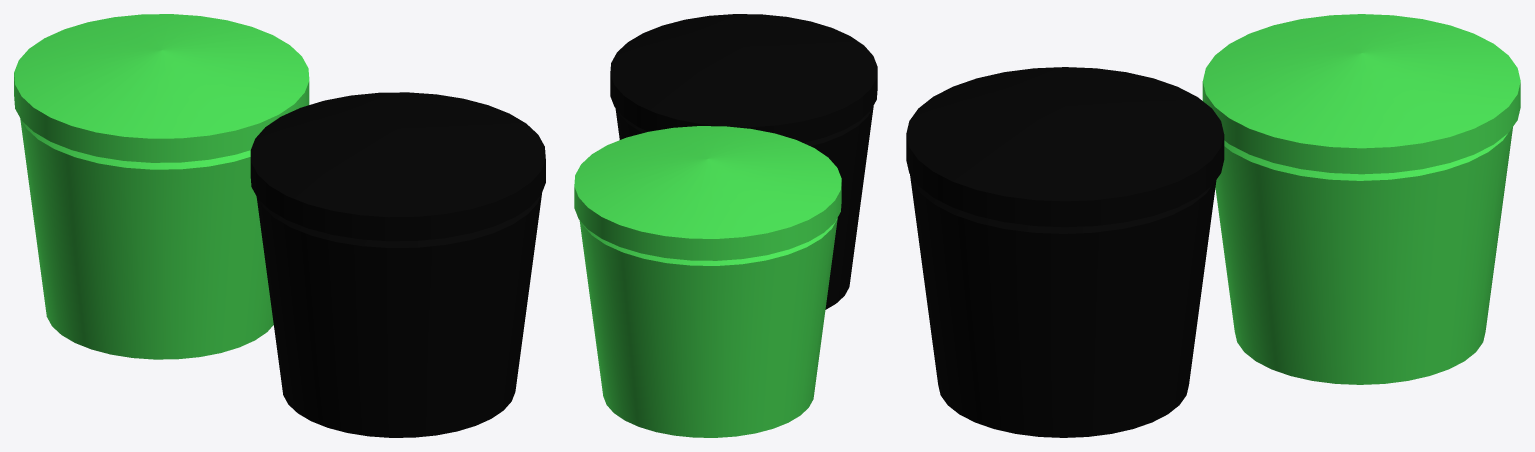
File: tachos.fbx
3 views of the same model, side by side, from view 1: azimuth 30°, elevation 25°; view 2: azimuth 150°, elevation 25°; view 3: azimuth 270°, elevation 25° (orthographic). The views are drawn at different scales.
Parts seen in each view (by area): view 1: Cylinder; view 2: Cylinder; view 3: Cylinder.
Boxes of the visible parts, box(x1,y1,x2,y2) form: Cylinder: box(14, 14, 545, 437); Cylinder: box(574, 14, 877, 437); Cylinder: box(906, 14, 1520, 437).
Size of the model in its own units: 351 by 247 by 490.
